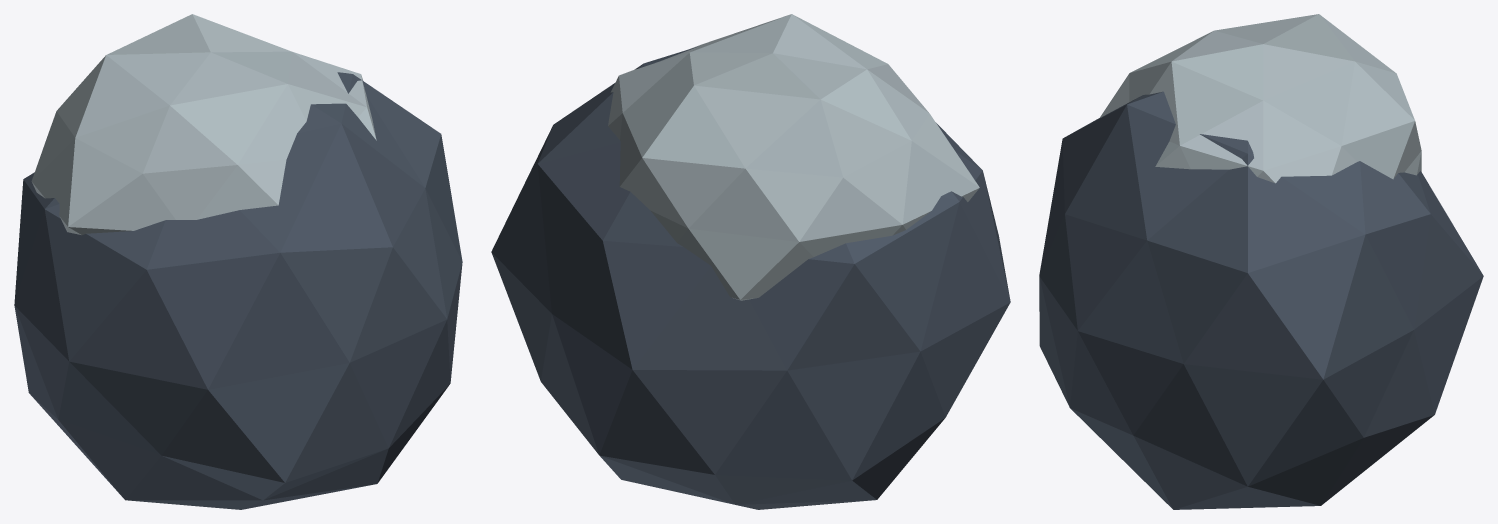
Rendered from glacier-rock-2.glb.
3 views of the same model, side by side, from view 1: azimuth 30°, elevation 25°; view 2: azimuth 150°, elevation 25°; view 3: azimuth 270°, elevation 25° (orthographic). The views are drawn at different scales.
Parts seen in each view (by area): view 1: glacier-rock-2; view 2: glacier-rock-2; view 3: glacier-rock-2.
Boxes of the visible parts, bbox=[...] form: glacier-rock-2: bbox=[14, 14, 462, 509]; glacier-rock-2: bbox=[491, 14, 1010, 509]; glacier-rock-2: bbox=[1039, 14, 1483, 509].
Size of the model in its own units: 1.54 by 1.57 by 1.44.
